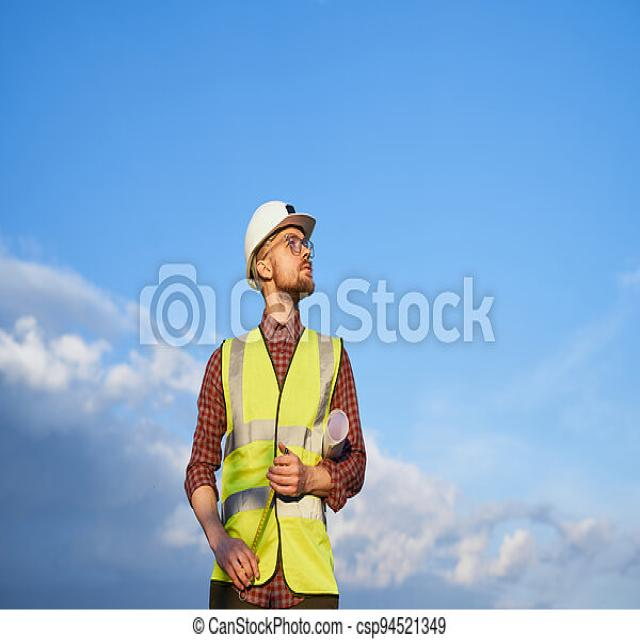helmet: (241, 189, 317, 289)
no-goggles: (266, 231, 320, 253)
vest: (216, 317, 341, 589)
